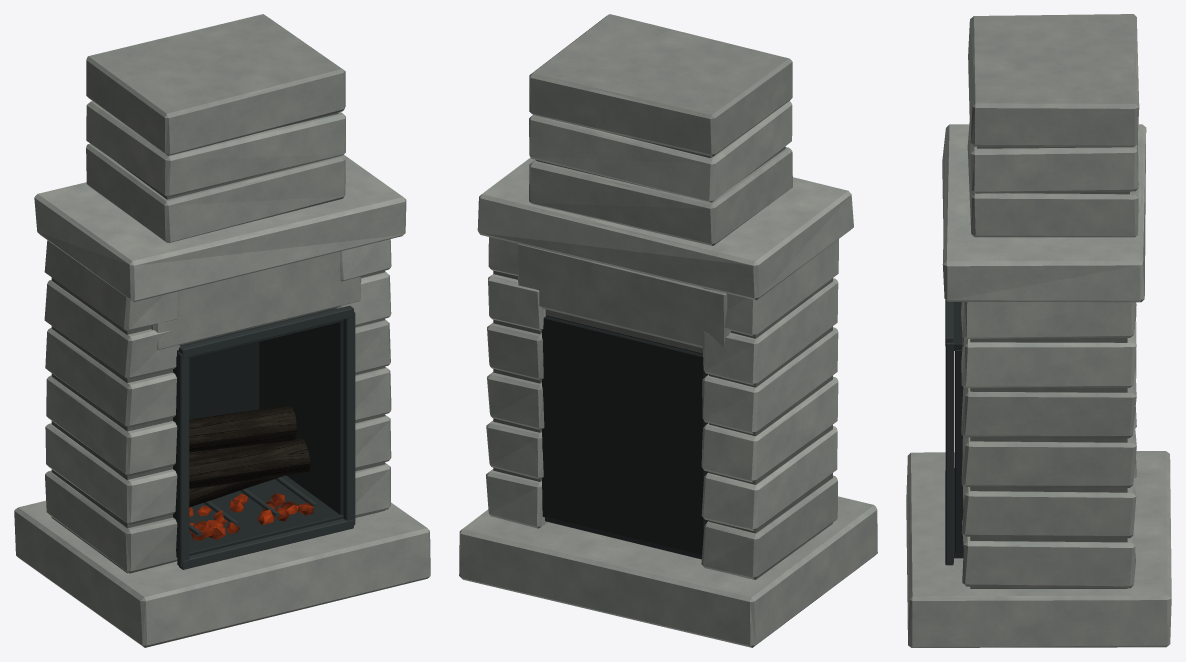
The picture shows the model from 3 angles, left to right: view 1: azimuth 30°, elevation 25°; view 2: azimuth 150°, elevation 25°; view 3: azimuth 270°, elevation 25°; orthographic projection. The views are drawn at different scales.
Parts seen in each view (by area): view 1: Mesh_stone, Mesh_iron, Mesh_dark, Mesh_ember; view 2: Mesh_stone, Mesh_iron; view 3: Mesh_stone, Mesh_iron.
Boxes of the visible parts, x1=… form: Mesh_stone: x1=14, y1=14, x2=430, y2=647; Mesh_iron: x1=173, y1=305, x2=355, y2=569; Mesh_dark: x1=189, y1=405, x2=310, y2=507; Mesh_ember: x1=189, y1=493, x2=313, y2=540; Mesh_stone: x1=459, y1=14, x2=877, y2=647; Mesh_iron: x1=542, y1=315, x2=708, y2=559; Mesh_stone: x1=906, y1=14, x2=1171, y2=647; Mesh_iron: x1=945, y1=300, x2=963, y2=565.
Size of the model in its own units: 1.47 by 2.4 by 1.11.
4 materials, 3 textured.
